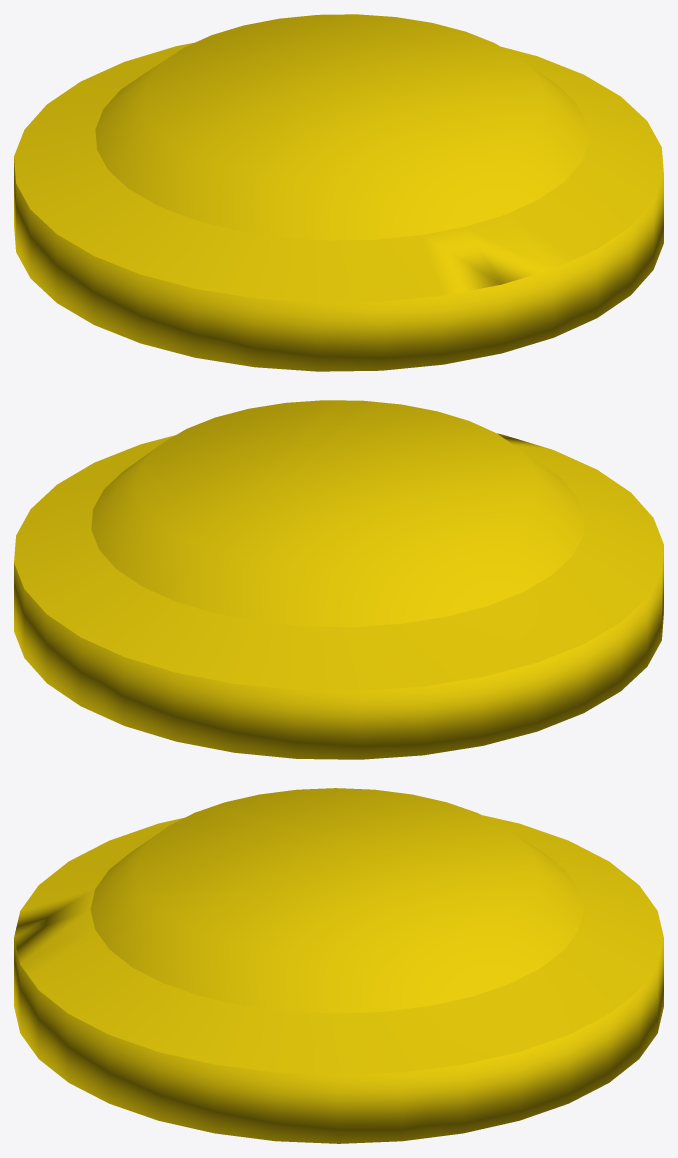
Rendered from Yellow.fbx.
The picture shows the model from 3 angles, top to bottom: view 1: azimuth 30°, elevation 25°; view 2: azimuth 150°, elevation 25°; view 3: azimuth 270°, elevation 25°; orthographic projection.
Parts seen in each view (by area): view 1: Cylinder.002; view 2: Cylinder.002; view 3: Cylinder.002.
Boxes of the visible parts, x1,y1,x2,y2 form: Cylinder.002: (14, 14, 663, 371); Cylinder.002: (14, 400, 663, 759); Cylinder.002: (14, 788, 663, 1143).
Size of the model in its own units: 200 by 46 by 200.
